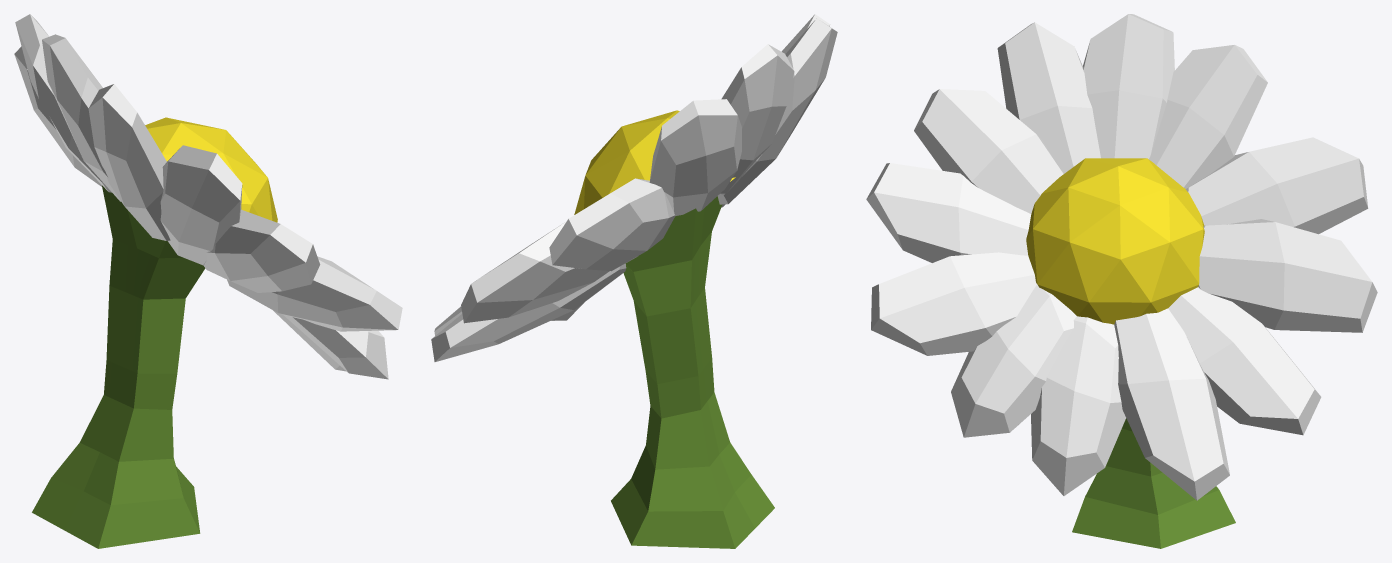
File: flower2.fbx
3 renders of one model, left to right at view 1: azimuth 30°, elevation 25°; view 2: azimuth 150°, elevation 25°; view 3: azimuth 270°, elevation 25°, orthographic. The views are drawn at different scales.
Parts seen in each view (by area): view 1: flwoer2; view 2: flwoer2; view 3: flwoer2.
Boxes of the visible parts, x1,y1,x2,y2 form: flwoer2: (14,14,402,548); flwoer2: (431,14,837,548); flwoer2: (866,14,1377,548).
Size of the model in its own units: 445 by 654 by 645.
